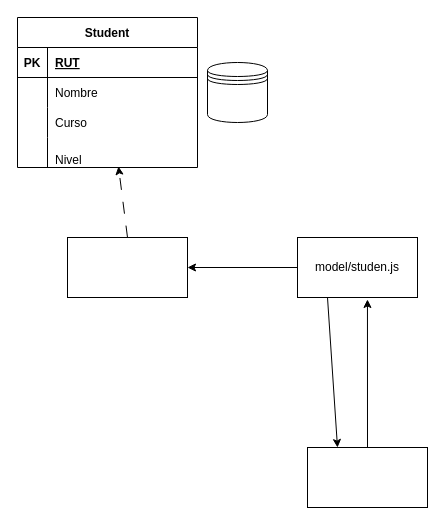
This 445x525 diagram has some shape labels left out. Each missing label, with the box of its shape:
index.js (se configura EXPRESS): (306, 446, 428, 508)
utils/conexion.js: (66, 236, 188, 298)
